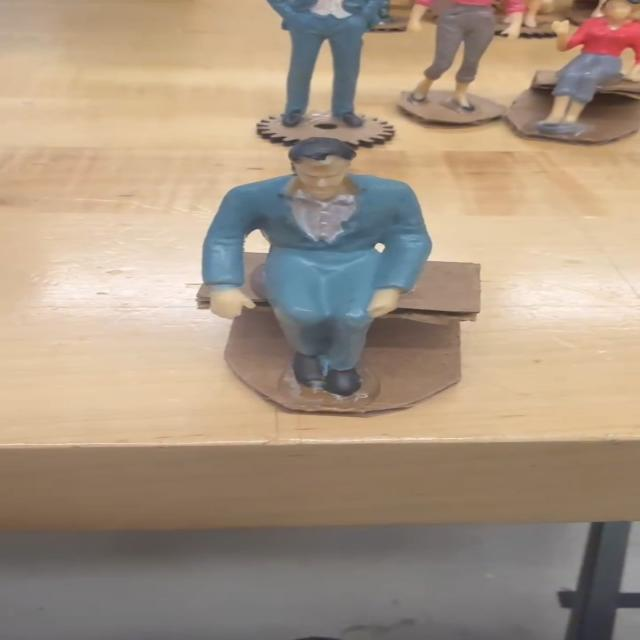Authorized: (91, 136, 563, 475)
